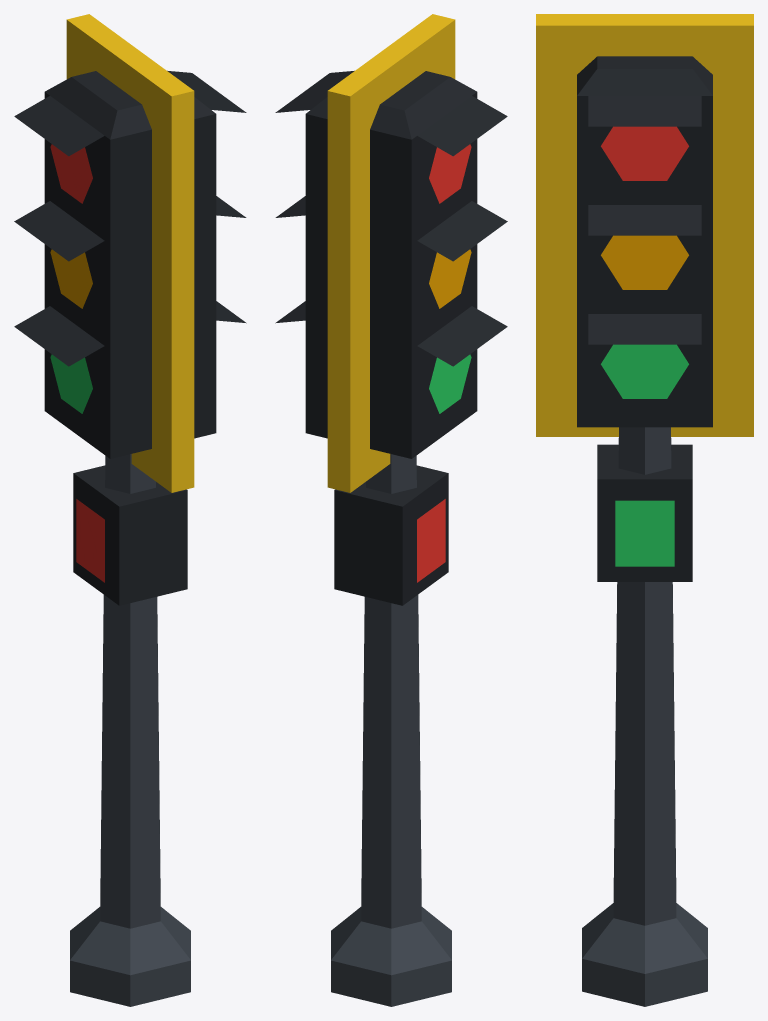
Rendered from traffic_light.glb.
The picture shows the model from 3 angles, left to right: view 1: azimuth 30°, elevation 25°; view 2: azimuth 150°, elevation 25°; view 3: azimuth 270°, elevation 25°; orthographic projection. The views are drawn at different scales.
Parts seen in each view (by area): view 1: traffic_light; view 2: traffic_light; view 3: traffic_light.
Part boxes in pixels (x1,y1,x2,y2): traffic_light: (14, 14, 246, 1006); traffic_light: (275, 14, 507, 1006); traffic_light: (536, 14, 753, 1006).
Bounding box in the file's own units: 0.094 × 0.465 × 0.096.
